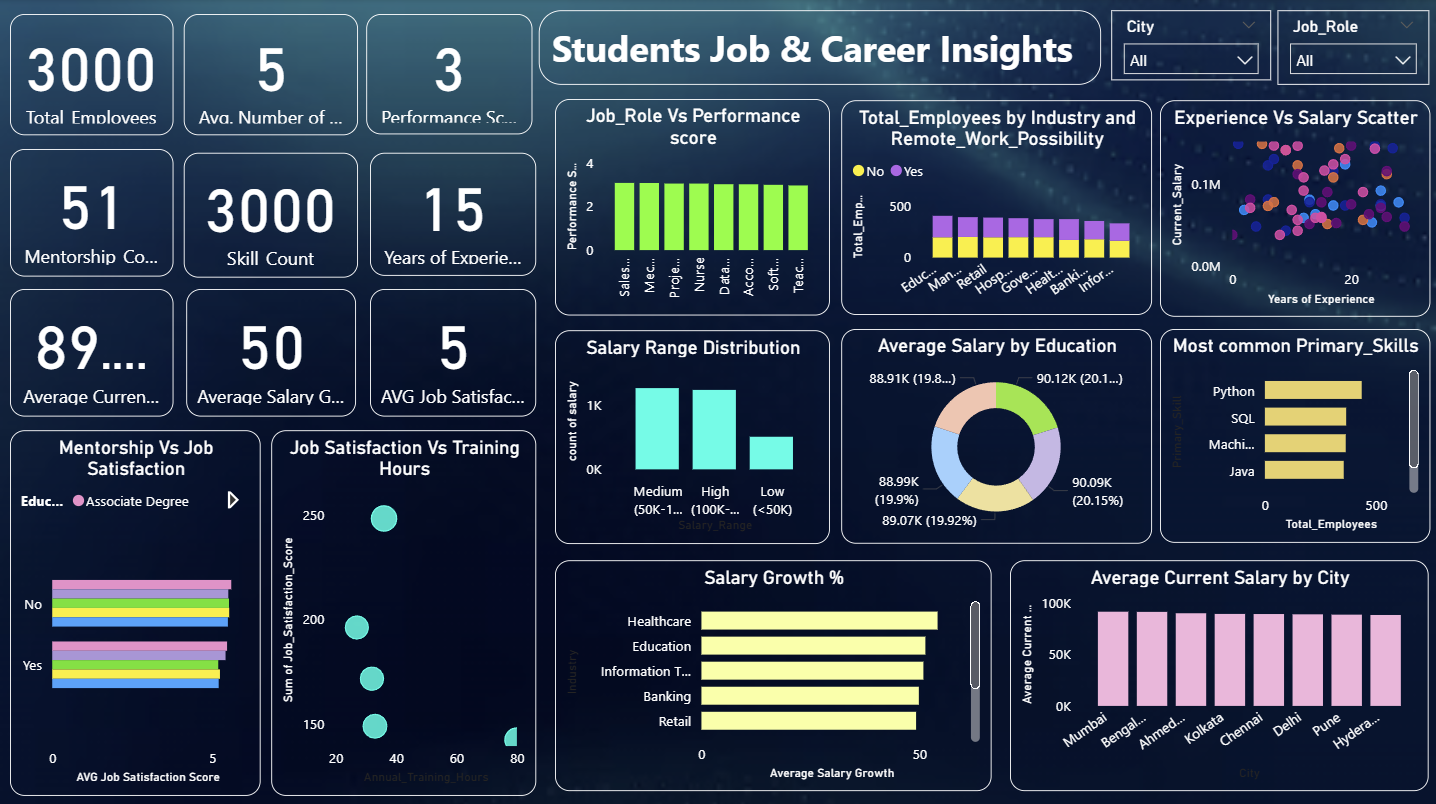

What the dashboard file says about the page in this screenshot:
{"tool":"powerbi","page":{"name":"Page 1","canvas":[1280,720],"ordinal":0},"visuals":[{"type":"card","fields":{"Values":["StudentsJobs.Total_Employees"]},"box":[8.6,13,145.4,108],"z":0},{"type":"textbox","box":[480.2,9.7,500.7,66.4],"z":1000},{"type":"card","fields":{"Values":["StudentsJobs.Average Current Salary"]},"box":[8.6,257.8,145.4,113.8],"z":2000},{"type":"card","fields":{"Values":["StudentsJobs.Average Salary Growth"]},"box":[165.6,257.8,151.2,113.8],"z":3000},{"type":"card","fields":{"Values":["StudentsJobs.AVG Job Satisfaction Score"]},"box":[329.8,257.8,148.3,113.8],"z":4000},{"type":"card","fields":{"Values":["StudentsJobs.Avg. Number of Skills"]},"box":[164.2,13,155.5,108],"z":5000},{"type":"card","fields":{"Values":["StudentsJobs.Mentorship_Coverage"]},"box":[8.6,133.9,145.4,113.8],"z":6000},{"type":"card","fields":{"Values":["StudentsJobs.Performance Score"]},"box":[325.7,13.3,148.4,107.4],"z":7000},{"type":"card","fields":{"Values":["StudentsJobs.Skill_Count"]},"box":[164.2,136.8,155.5,110.9],"z":8000},{"type":"card","fields":{"Values":["StudentsJobs.Years of Experience"]},"box":[329.8,136.8,148.3,109.4],"z":9000},{"type":"columnChart","title":"Salary Range Distribution","fields":{"Category":["Dim_Salary.Salary_Range"],"Y":["CountNonNull(Dim_Salary.Salary_Range)"]},"box":[493.9,295.2,244.8,190.1],"z":10000},{"type":"donutChart","title":"Average Salary by Education","fields":{"Category":["StudentsJobs.Education_Level"],"Y":["StudentsJobs.Average Current Salary"]},"box":[748.8,293.8,276.5,191.5],"z":11000},{"type":"columnChart","title":"Job_Role Vs Performance score","fields":{"Category":["StudentsJobs.Job_Role"],"Y":["StudentsJobs.Performance Score"]},"box":[493.9,89.3,244.8,193],"z":12000},{"type":"clusteredBarChart","title":"Salary Growth %","fields":{"Category":["StudentsJobs.Industry"],"Y":["StudentsJobs.Average Salary Growth"]},"box":[493.9,499.7,388.8,205.9],"z":13000},{"type":"scatterChart","title":"Job Satisfaction Vs Training Hours","fields":{"X":["StudentsJobs.Annual_Training_Hours"],"Y":["Sum(StudentsJobs.Job_Satisfaction_Score)"],"Size":["StudentsJobs.Performance Score"]},"box":[241.9,384.5,236.2,325.4],"z":14000},{"type":"columnChart","fields":{"Category":["StudentsJobs.Industry"],"Series":["StudentsJobs.Remote_Work_Possibility"],"Y":["StudentsJobs.Total_Employees"]},"box":[748.8,90.7,276.5,191.5],"z":15000},{"type":"clusteredBarChart","title":"Most common Primary_Skills","fields":{"Category":["StudentsJobs.Primary_Skill"],"Y":["StudentsJobs.Total_Employees"]},"box":[1032.5,293.8,240.5,190.1],"z":16000},{"type":"scatterChart","title":"Experience Vs Salary Scatter","fields":{"X":["StudentsJobs.Years of Experience"],"Y":["StudentsJobs.Current_Salary"],"Series":["StudentsJobs.Education_Level"]},"box":[1032.5,90.7,240.5,193],"z":17000},{"type":"columnChart","fields":{"Category":["StudentsJobs.City"],"Y":["StudentsJobs.Average Current Salary"]},"box":[900,499.7,373,205.9],"z":18000},{"type":"clusteredBarChart","title":"Mentorship Vs Job Satisfaction ","fields":{"Category":["StudentsJobs.Has_Mentorship"],"Y":["StudentsJobs.AVG Job Satisfaction Score"],"Series":["StudentsJobs.Education_Level"]},"box":[8.6,384.5,223.2,325.4],"z":19000},{"type":"slicer","fields":{"Values":["StudentsJobs.City"]},"box":[989.3,9.7,142.4,62.7],"z":20000},{"type":"slicer","fields":{"Values":["StudentsJobs.Job_Role"]},"box":[1137.7,9.7,135.1,66.4],"z":21000}]}

Visuals, with their boxes in screenshot pixels (x1, y1, x2, y2), scaled from the page's 1280x720 canvas onto the 1436x804 screenshot:
card - StudentsJobs.Total_Employees: 10/15/173/135
textbox: 539/11/1100/85
card - StudentsJobs.Average Current Salary: 10/288/173/415
card - StudentsJobs.Average Salary Growth: 186/288/355/415
card - StudentsJobs.AVG Job Satisfaction Score: 370/288/536/415
card - StudentsJobs.Avg. Number of Skills: 184/15/359/135
card - StudentsJobs.Mentorship_Coverage: 10/150/173/277
card - StudentsJobs.Performance Score: 365/15/532/135
card - StudentsJobs.Skill_Count: 184/153/359/277
card - StudentsJobs.Years of Experience: 370/153/536/275
"Salary Range Distribution" columnChart: 554/330/829/542
"Average Salary by Education" donutChart: 840/328/1150/542
"Job_Role Vs Performance score" columnChart: 554/100/829/315
"Salary Growth %" clusteredBarChart: 554/558/990/788
"Job Satisfaction Vs Training Hours" scatterChart: 271/429/536/793
columnChart - StudentsJobs.Industry x StudentsJobs.Remote_Work_Possibility: 840/101/1150/315
"Most common Primary_Skills" clusteredBarChart: 1158/328/1428/540
"Experience Vs Salary Scatter" scatterChart: 1158/101/1428/317
columnChart - StudentsJobs.City x StudentsJobs.Average Current Salary: 1010/558/1428/788
"Mentorship Vs Job Satisfaction " clusteredBarChart: 10/429/260/793
slicer - StudentsJobs.City: 1110/11/1270/81
slicer - StudentsJobs.Job_Role: 1276/11/1428/85
